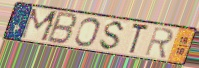B: (45, 10, 80, 46)
M: (17, 7, 60, 44)
O: (73, 17, 101, 48)
R: (143, 26, 175, 60)
S: (98, 20, 127, 52)
T: (127, 22, 151, 56)
